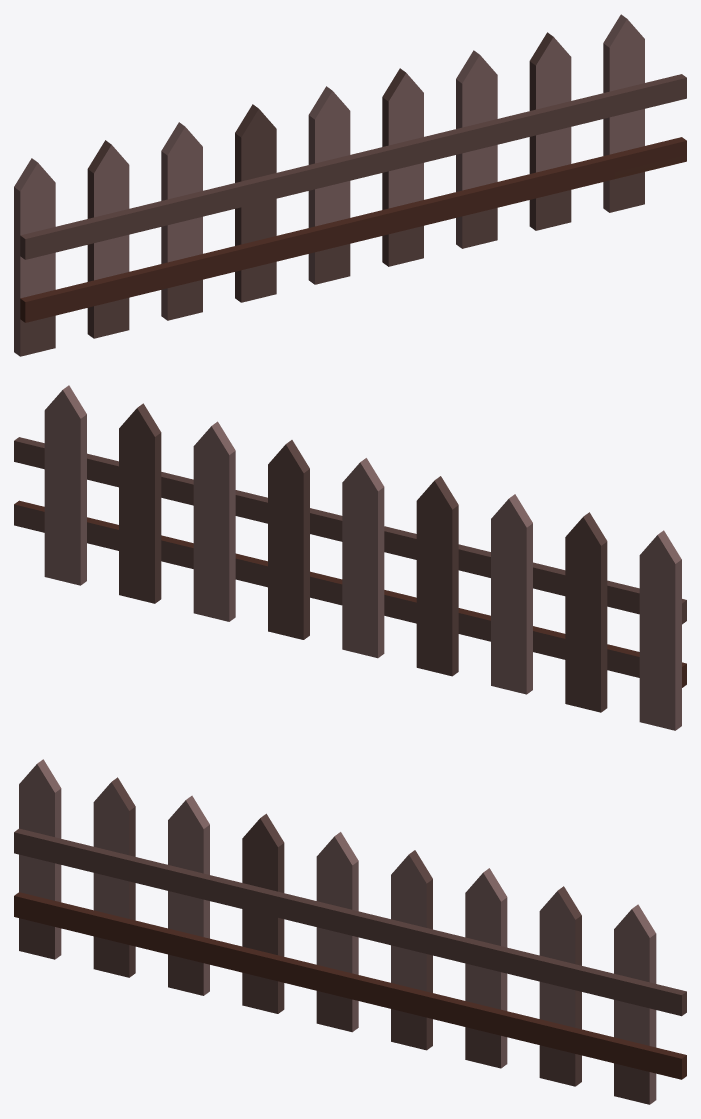
Rendered from SM_Fence.fbx.
The picture shows the model from 3 angles, top to bottom: view 1: azimuth 30°, elevation 25°; view 2: azimuth 150°, elevation 25°; view 3: azimuth 330°, elevation 25°; orthographic projection.
Visible parts, largest first — view 1: SM_fence1; view 2: SM_fence1; view 3: SM_fence1.
Boxes of the visible parts, x1,y1,x2,y2 form: SM_fence1: (14,14,686,356); SM_fence1: (14,385,686,730); SM_fence1: (14,759,686,1104).
Size of the model in its own units: 164 by 45.09 by 4.91.
1 material, 1 textured.
